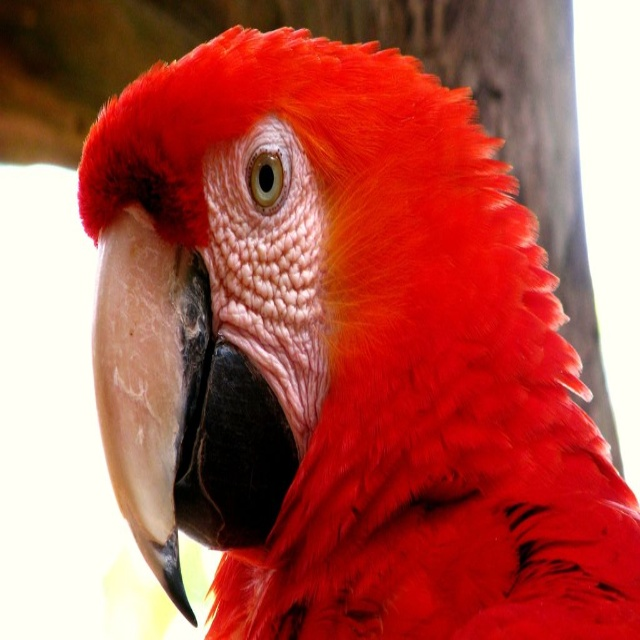Parrot: (77, 21, 640, 639)
